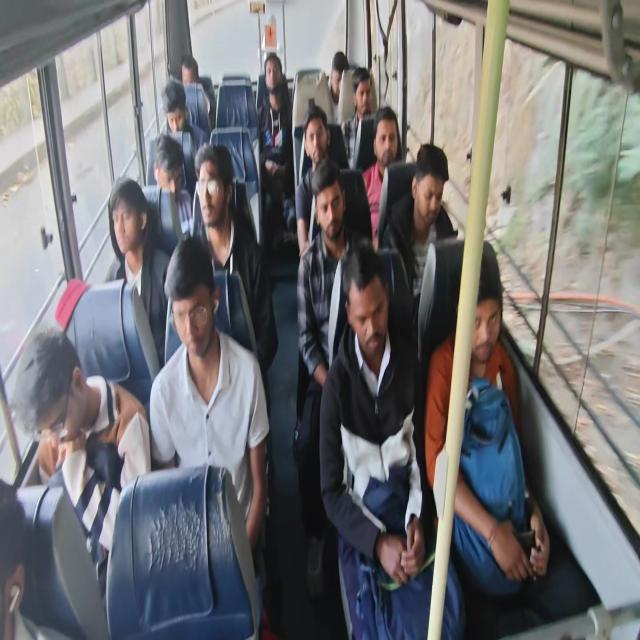person: (17, 350, 86, 471), (166, 270, 212, 362), (349, 270, 386, 362), (462, 283, 502, 357), (412, 159, 448, 232), (194, 153, 227, 225), (312, 184, 344, 250), (112, 187, 140, 260), (368, 112, 396, 176), (154, 150, 180, 191), (304, 121, 325, 163), (165, 87, 185, 131), (176, 59, 198, 93), (354, 76, 372, 114), (263, 56, 281, 91), (332, 59, 347, 96)
